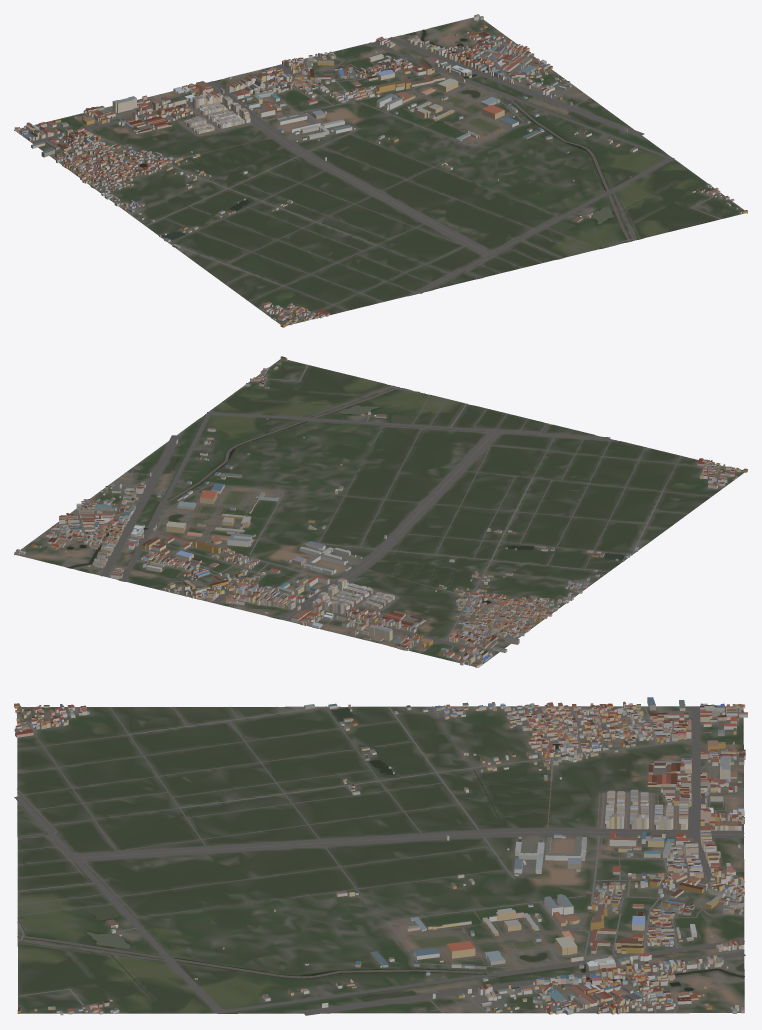
3 renders of one model, top to bottom at view 1: azimuth 30°, elevation 25°; view 2: azimuth 150°, elevation 25°; view 3: azimuth 270°, elevation 25°, orthographic. The views are drawn at different scales.
Parts seen in each view (by area): view 1: ground, buildings, roads, water; view 2: ground, buildings, roads, water; view 3: ground, buildings, roads, water.
Boxes of the visible parts, box(x1,y1,x2,y2) form: ground: box(14, 17, 747, 325); buildings: box(14, 14, 747, 327); roads: box(19, 35, 721, 323); water: box(139, 29, 677, 294); ground: box(14, 359, 744, 667); buildings: box(14, 356, 747, 667); roads: box(40, 364, 725, 665); water: box(66, 385, 624, 618); ground: box(17, 706, 744, 1013); buildings: box(14, 697, 747, 1015); roads: box(14, 706, 745, 1015); water: box(17, 707, 744, 1013).
Size of the model in its own units: 1432 by 31.59 by 1416.
